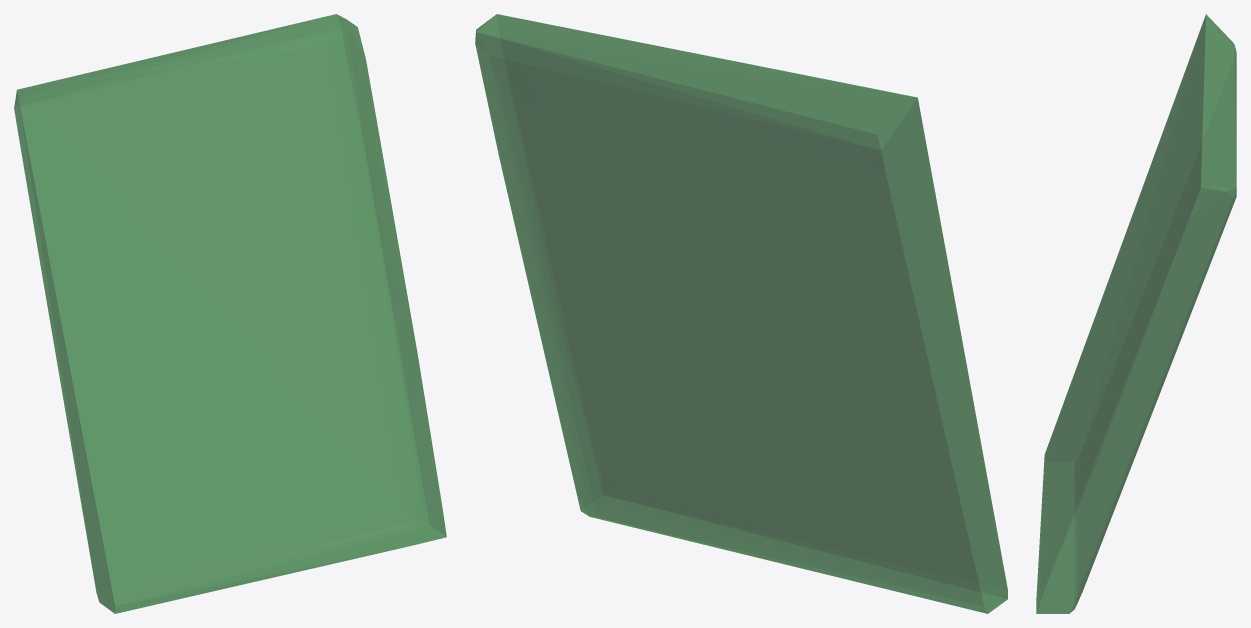
3 views of the same model, side by side, from view 1: azimuth 30°, elevation 25°; view 2: azimuth 150°, elevation 25°; view 3: azimuth 270°, elevation 25° (orthographic). The views are drawn at different scales.
Parts seen in each view (by area): view 1: Shape_IndexedFaceSet.003_Shape_IndexedFaceSet.15147; view 2: Shape_IndexedFaceSet.003_Shape_IndexedFaceSet.15147; view 3: Shape_IndexedFaceSet.003_Shape_IndexedFaceSet.15147.
Boxes of the visible parts, x1,y1,x2,y2 form: Shape_IndexedFaceSet.003_Shape_IndexedFaceSet.15147: [14, 14, 446, 613]; Shape_IndexedFaceSet.003_Shape_IndexedFaceSet.15147: [475, 14, 1007, 613]; Shape_IndexedFaceSet.003_Shape_IndexedFaceSet.15147: [1036, 14, 1236, 613].
Bounding box in the file's own units: 0.5512 × 0.7141 × 0.2931.
